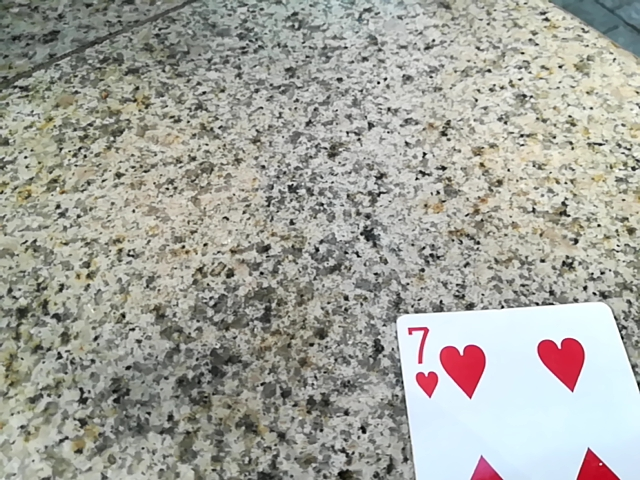hx 7: (392, 310, 638, 479)
